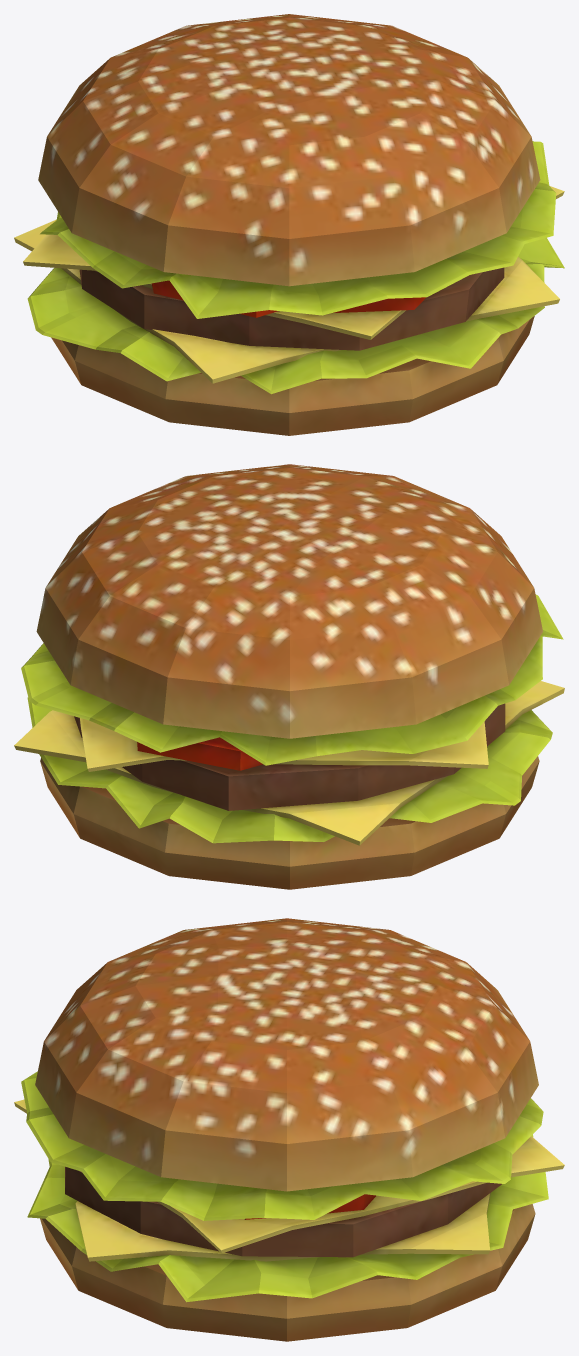
File: eke7qcu_FR2.glb
3 views of the same model, one above another, from view 1: azimuth 30°, elevation 25°; view 2: azimuth 150°, elevation 25°; view 3: azimuth 270°, elevation 25° (orthographic).
Parts seen in each view (by area): view 1: Hamburguer_Mesh; view 2: Hamburguer_Mesh; view 3: Hamburguer_Mesh.
Boxes of the visible parts, <box> form: Hamburguer_Mesh: <box>14,14,564,435</box>; Hamburguer_Mesh: <box>14,464,564,889</box>; Hamburguer_Mesh: <box>14,918,564,1341</box>.
Bounding box in the file's own units: 1.9 × 1 × 1.88.
Materials: 1 (1 with a texture image).
